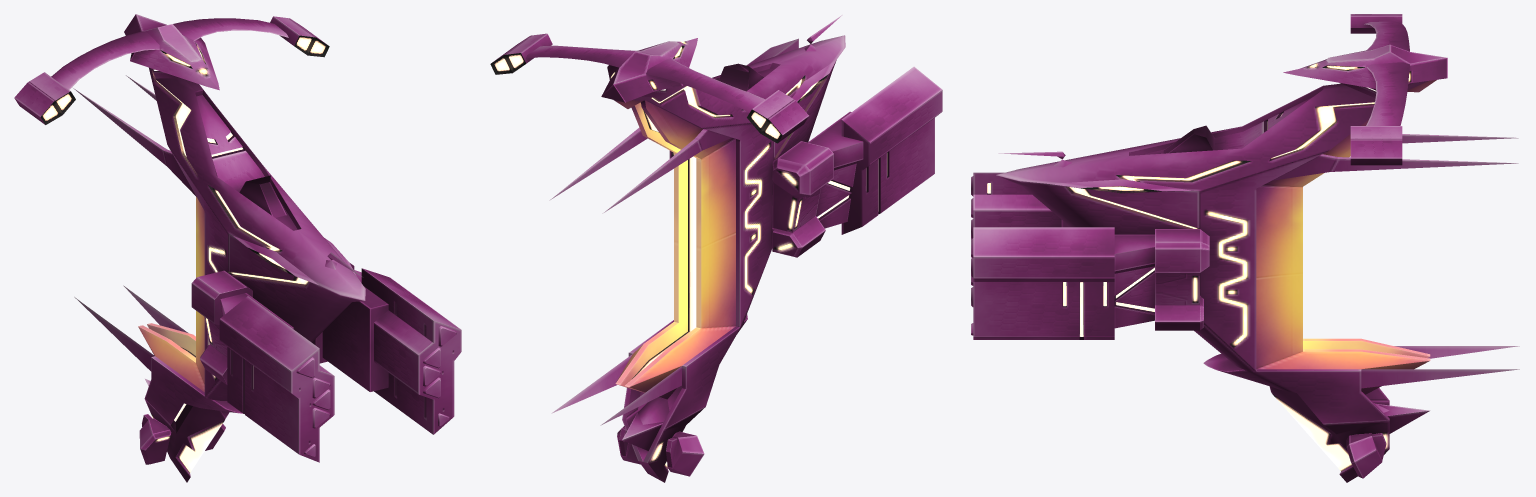
3 renders of one model, left to right at view 1: azimuth 30°, elevation 25°; view 2: azimuth 150°, elevation 25°; view 3: azimuth 270°, elevation 25°, orthographic. The views are drawn at different scales.
Visible parts, largest first — view 1: body; view 2: body; view 3: body.
Part boxes in pixels (x1=…): body: x1=14, y1=14, x2=461, y2=482; body: x1=490, y1=15, x2=942, y2=482; body: x1=971, y1=14, x2=1519, y2=482.
Size of the model in its own units: 110 by 161 by 184.
Materials: 1 (1 with a texture image).
